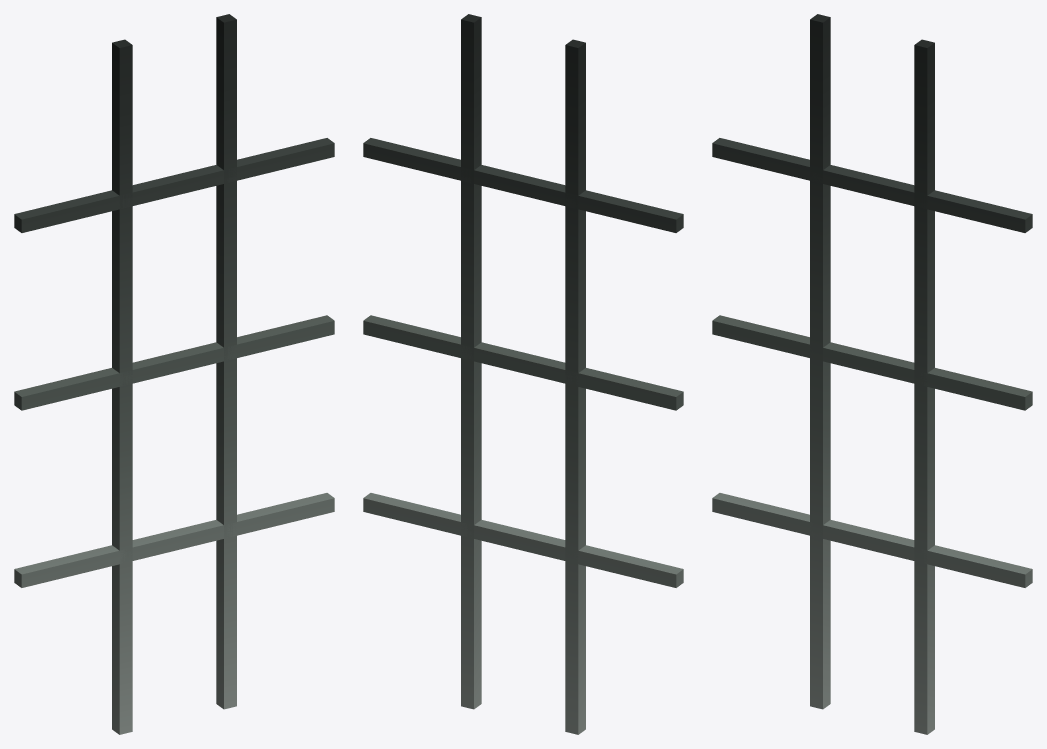
File: SM_Window_Frame.fbx
3 views of the same model, side by side, from view 1: azimuth 30°, elevation 25°; view 2: azimuth 150°, elevation 25°; view 3: azimuth 330°, elevation 25° (orthographic).
Parts seen in each view (by area): view 1: SM_Window_Frame; view 2: SM_Window_Frame; view 3: SM_Window_Frame.
Part boxes in pixels (x1,y1,x2,y2): SM_Window_Frame: (14,14,334,734); SM_Window_Frame: (363,14,683,734); SM_Window_Frame: (712,14,1032,734).
Size of the model in its own units: 1.2 by 2.52 by 0.05.
